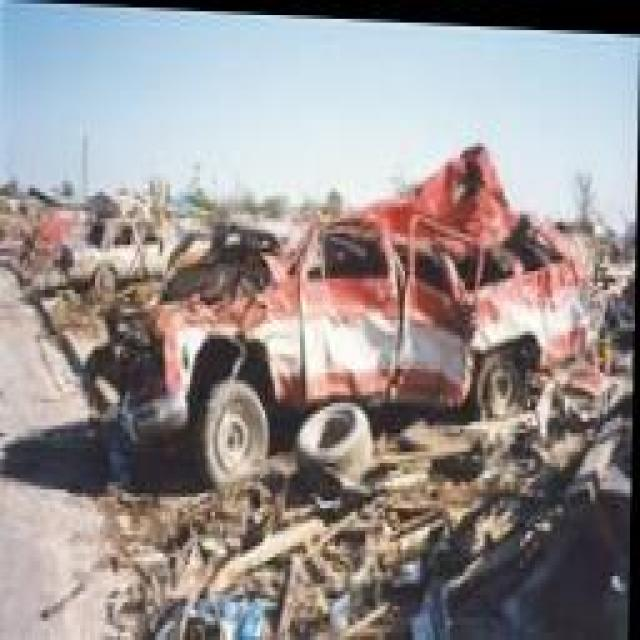Bumper: (95, 321, 162, 435)
Door: (305, 230, 470, 387)
Fender: (175, 290, 277, 400), (488, 264, 574, 354)
